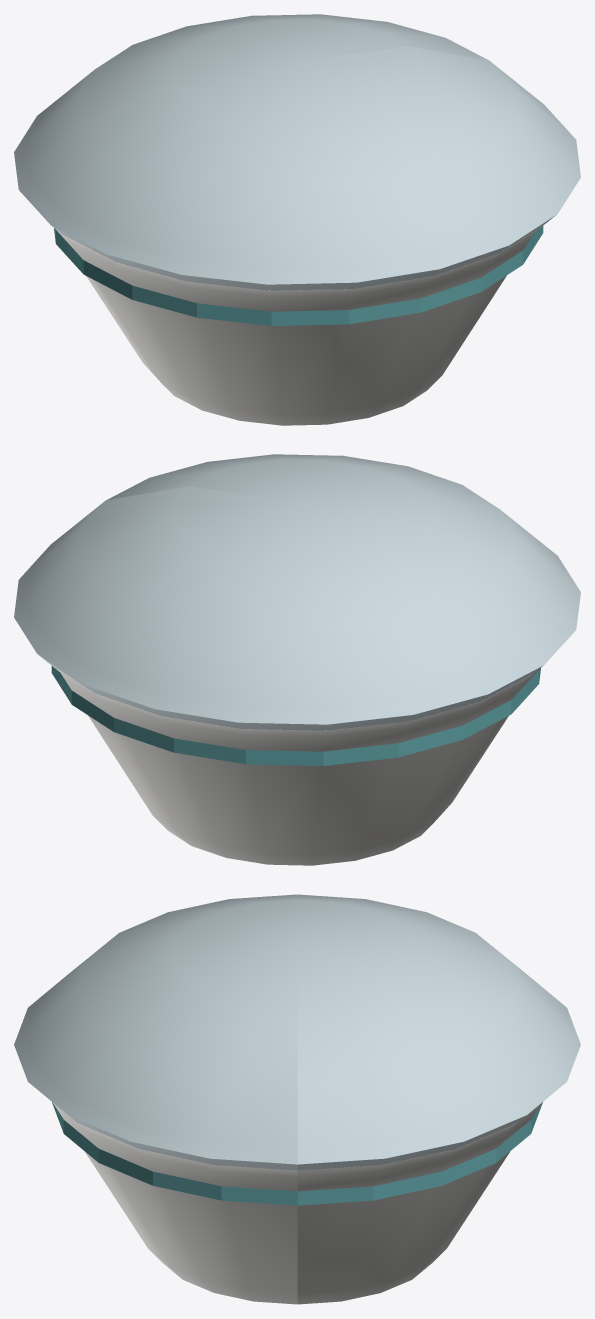
The model's file is fast-food-and-drive-thru-salad-bowl-with-lid-e86a6962__16174.glb.
The picture shows the model from 3 angles, top to bottom: view 1: azimuth 30°, elevation 25°; view 2: azimuth 150°, elevation 25°; view 3: azimuth 270°, elevation 25°; orthographic projection.
Visible parts, largest first — view 1: salad-bowl-with-lid; view 2: salad-bowl-with-lid; view 3: salad-bowl-with-lid.
Part boxes in pixels (x1,y1,x2,y2): salad-bowl-with-lid: (14,14,580,425); salad-bowl-with-lid: (14,454,580,865); salad-bowl-with-lid: (14,894,580,1304).
Bounding box in the file's own units: 0.18 × 0.106 × 0.18.
